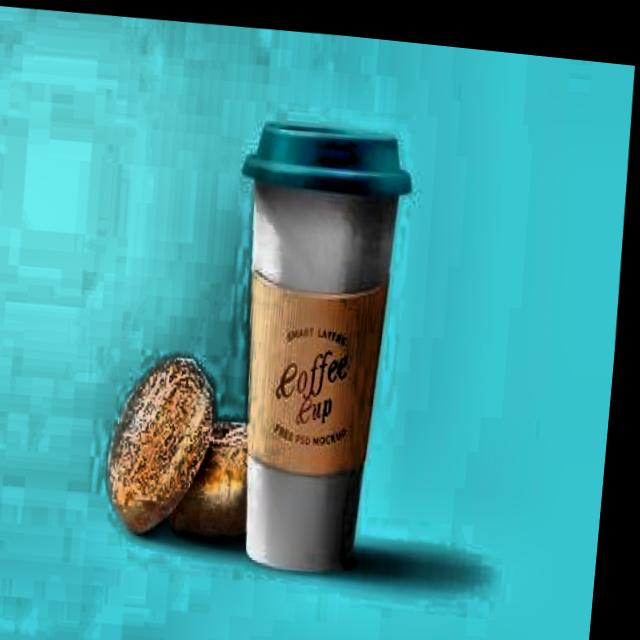Cup: (228, 123, 431, 577)
